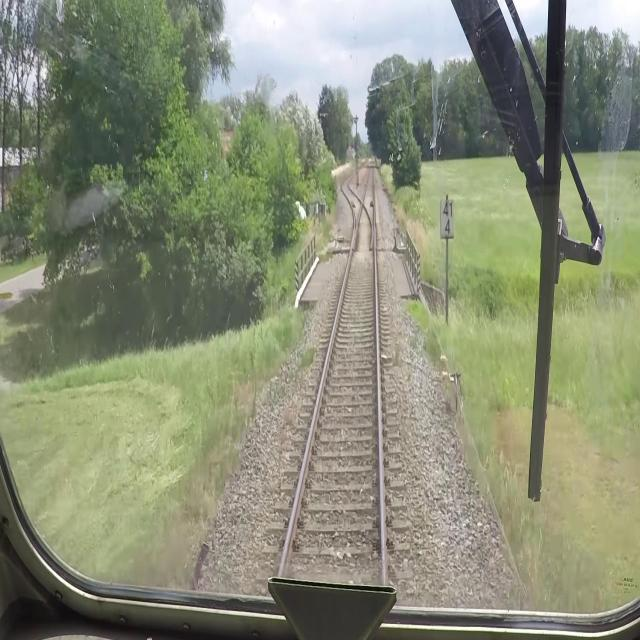rail-track: (280, 155, 382, 587), (341, 171, 361, 228)
